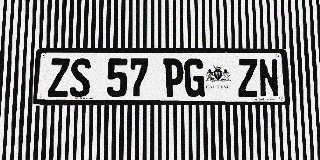5: (107, 59, 128, 97)
7: (128, 59, 149, 97)
G: (184, 59, 205, 97)
N: (258, 59, 279, 97)
P: (163, 59, 184, 97)
S: (70, 59, 91, 97)
Z: (48, 59, 70, 97), (237, 59, 259, 97)
